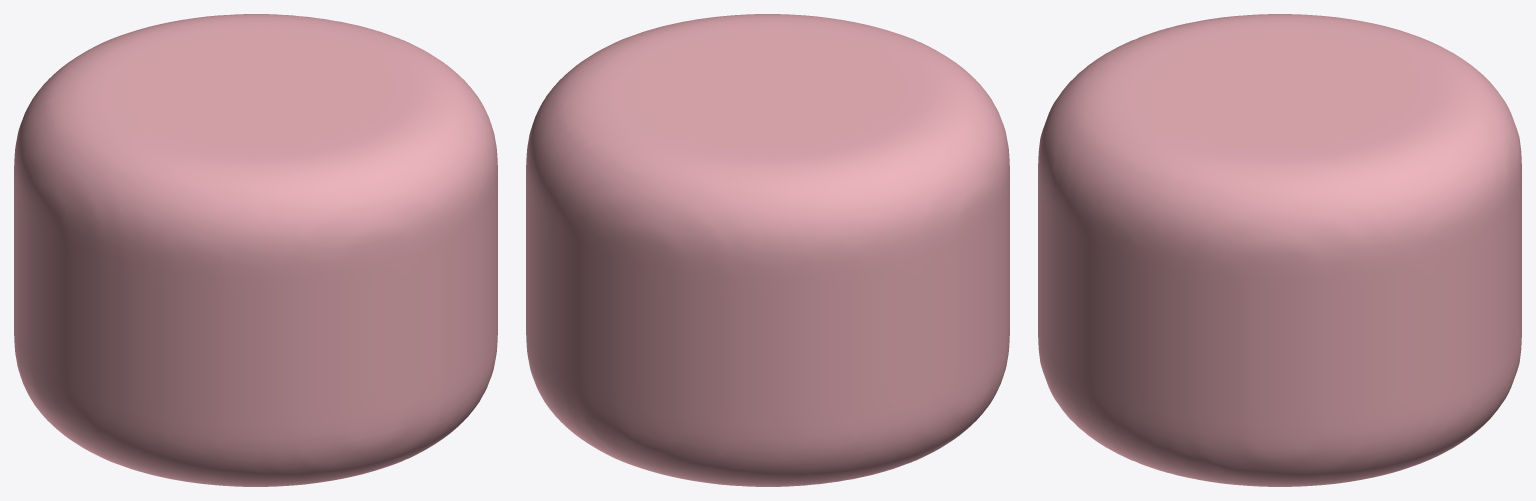
File: squishy-cylinder.glb
The picture shows the model from 3 angles, left to right: view 1: azimuth 30°, elevation 25°; view 2: azimuth 150°, elevation 25°; view 3: azimuth 270°, elevation 25°; orthographic projection.
Visible parts, largest first — view 1: Squishy_Surface; view 2: Squishy_Surface; view 3: Squishy_Surface.
Part boxes in pixels (x1=…): Squishy_Surface: x1=14, y1=14, x2=497, y2=486; Squishy_Surface: x1=526, y1=14, x2=1009, y2=486; Squishy_Surface: x1=1038, y1=14, x2=1521, y2=486.
Bounding box in the file's own units: 2 × 1.45 × 2.
